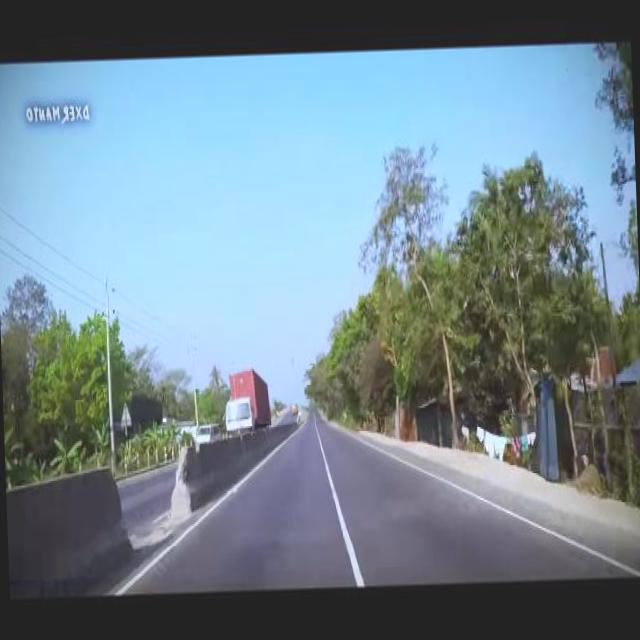truck: (222, 362, 274, 434), (196, 418, 223, 445), (292, 399, 299, 412)
